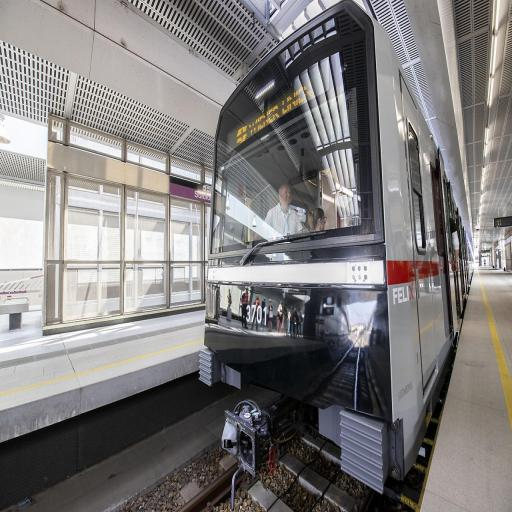X-Wagen: (198, 0, 472, 489)
